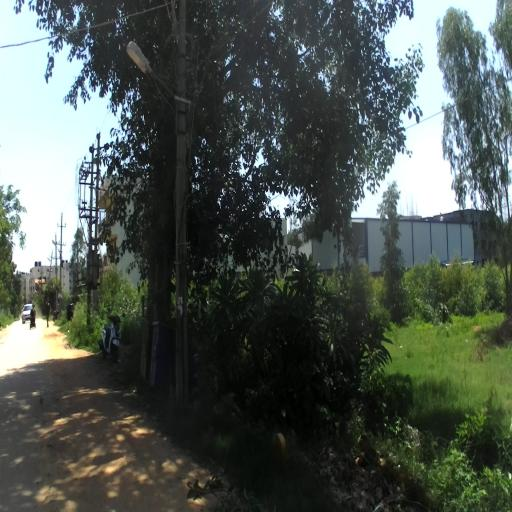street_light_0: (126, 40, 186, 136), (52, 240, 62, 260), (47, 257, 58, 274)
